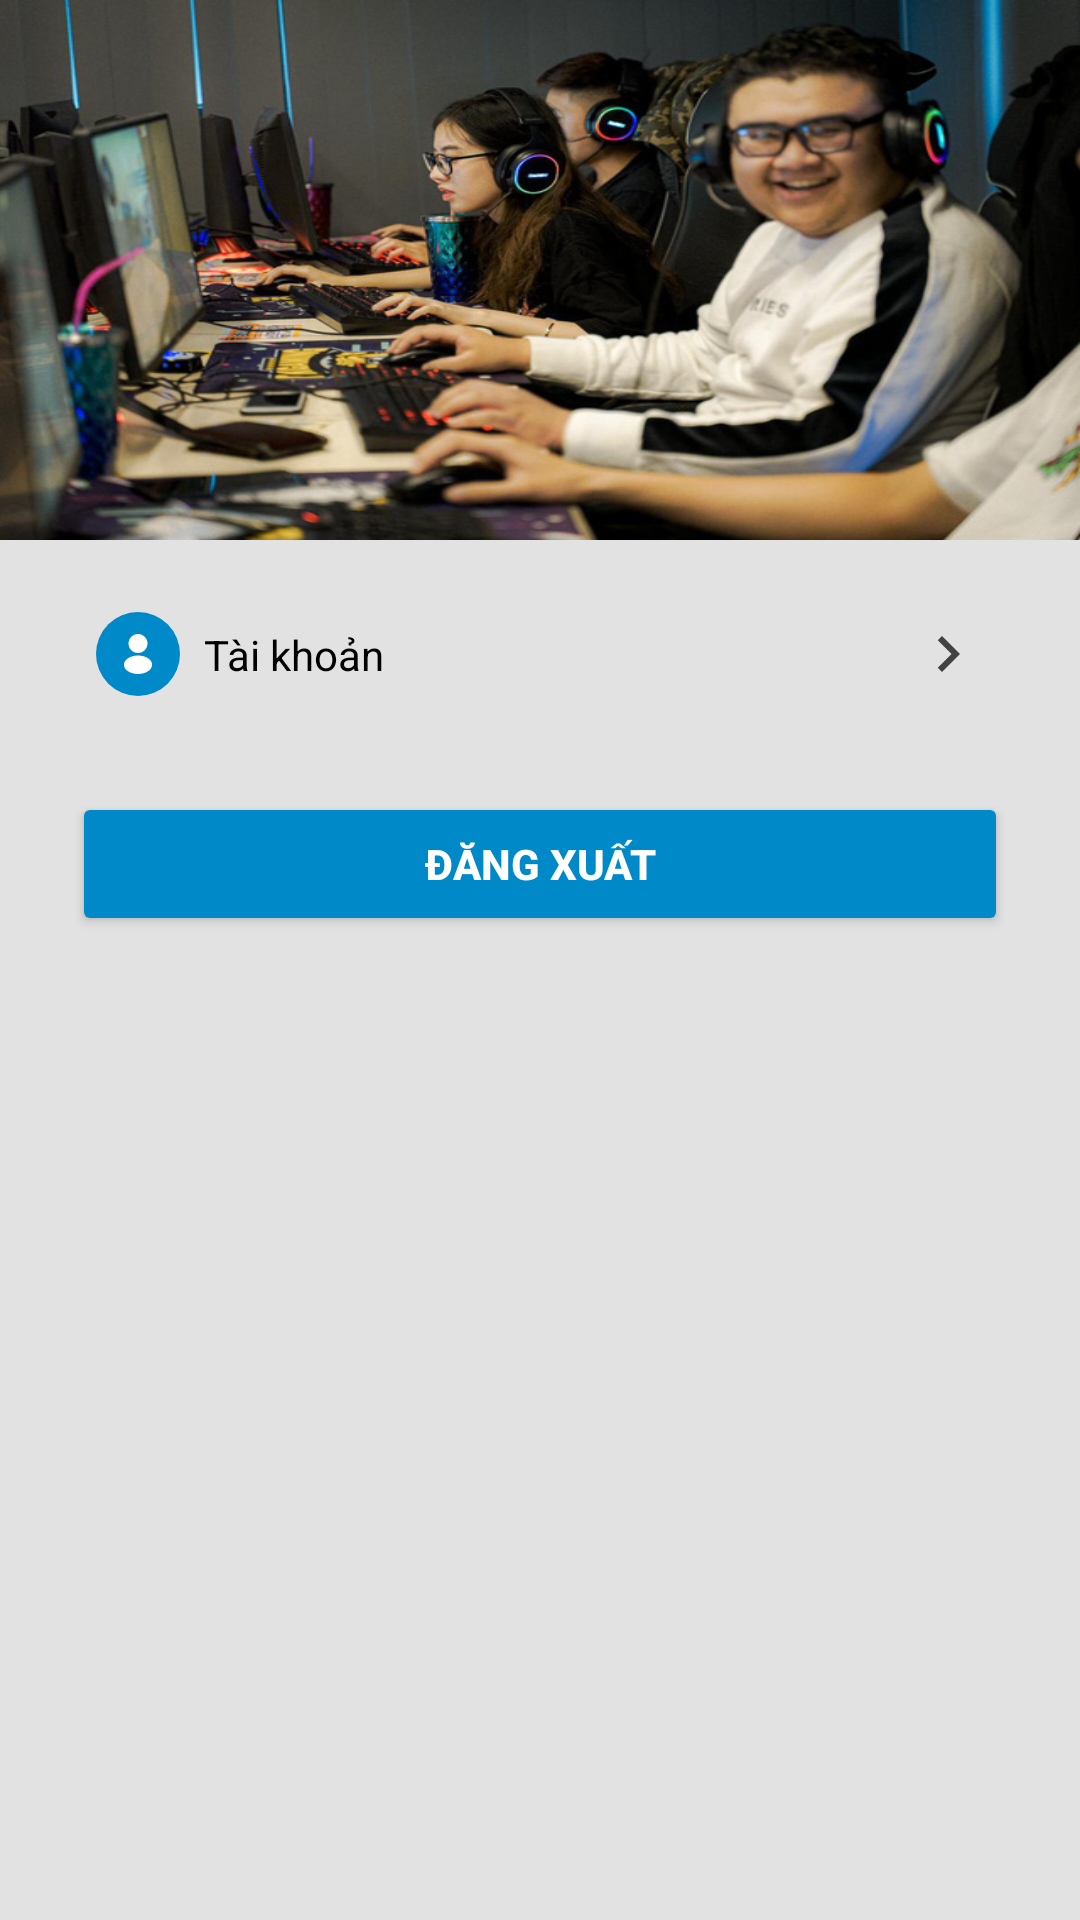

Where to tap for icons on this 1080px x 1920px app screen, as [x,y]:
detail: [949,654]
profile: [138,654]
